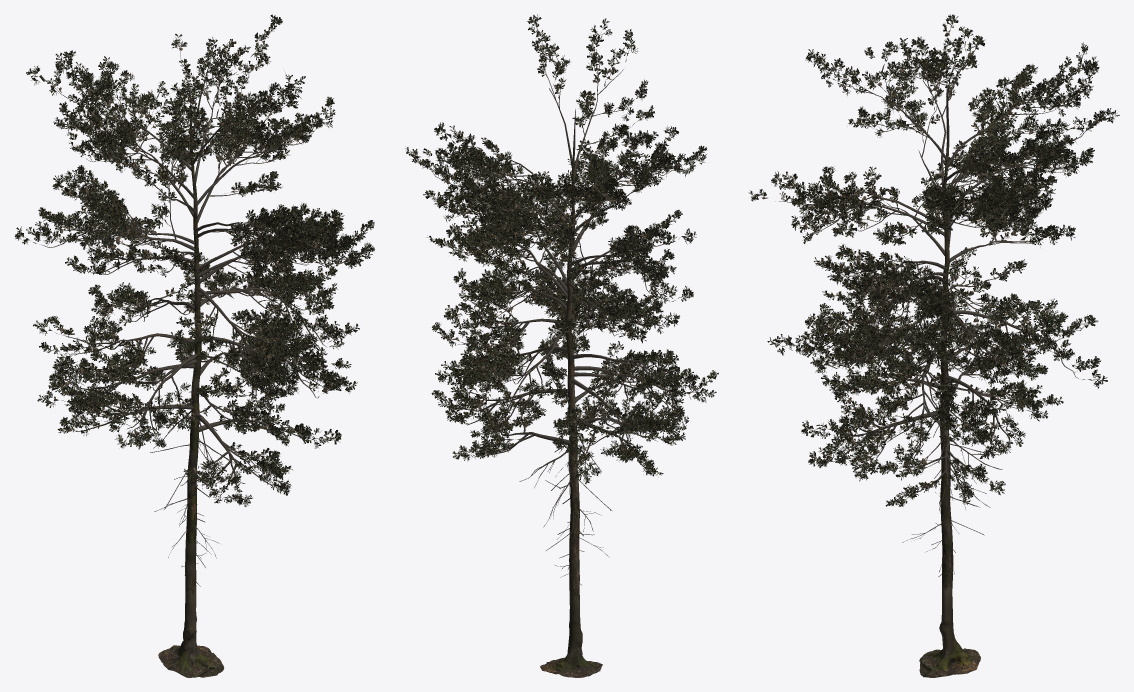
Rendered from pine-mature-near.glb.
3 renders of one model, left to right at view 1: azimuth 30°, elevation 25°; view 2: azimuth 150°, elevation 25°; view 3: azimuth 270°, elevation 25°, orthographic. The views are drawn at different scales.
Parts seen in each view (by area): view 1: pine_tree_01_b_LOD0; view 2: pine_tree_01_b_LOD0; view 3: pine_tree_01_b_LOD0.
Part boxes in pixels (x1,y1,x2,y2): pine_tree_01_b_LOD0: [14, 14, 374, 677]; pine_tree_01_b_LOD0: [405, 14, 718, 677]; pine_tree_01_b_LOD0: [748, 14, 1119, 677].
Bounding box in the file's own units: 7.21 × 14.86 × 7.58.
Materials: 3 (3 with a texture image).
